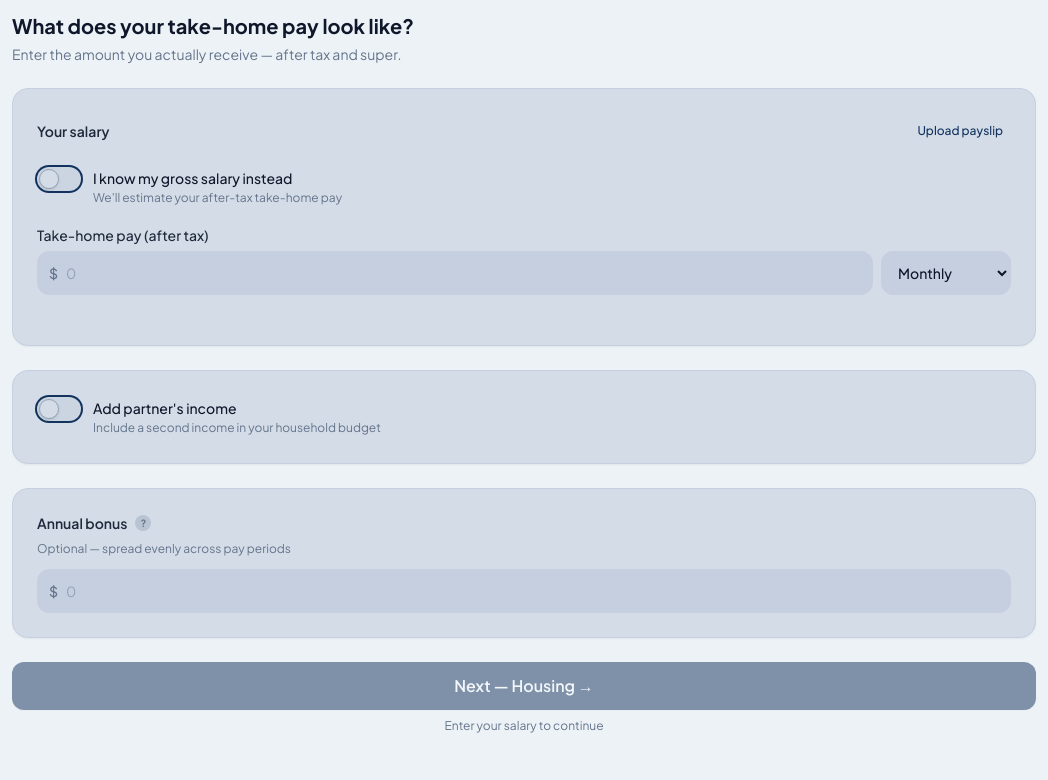
StepIncome — Next button › Next button is enabled once a salary amount is entered
This screenshot has width=1048, height=780.
Note: The first textbox is the primary salary amount
Type "5000" into the field labelled "Take-home pay (after tax)" at (455, 273), box [37,251,873,295]
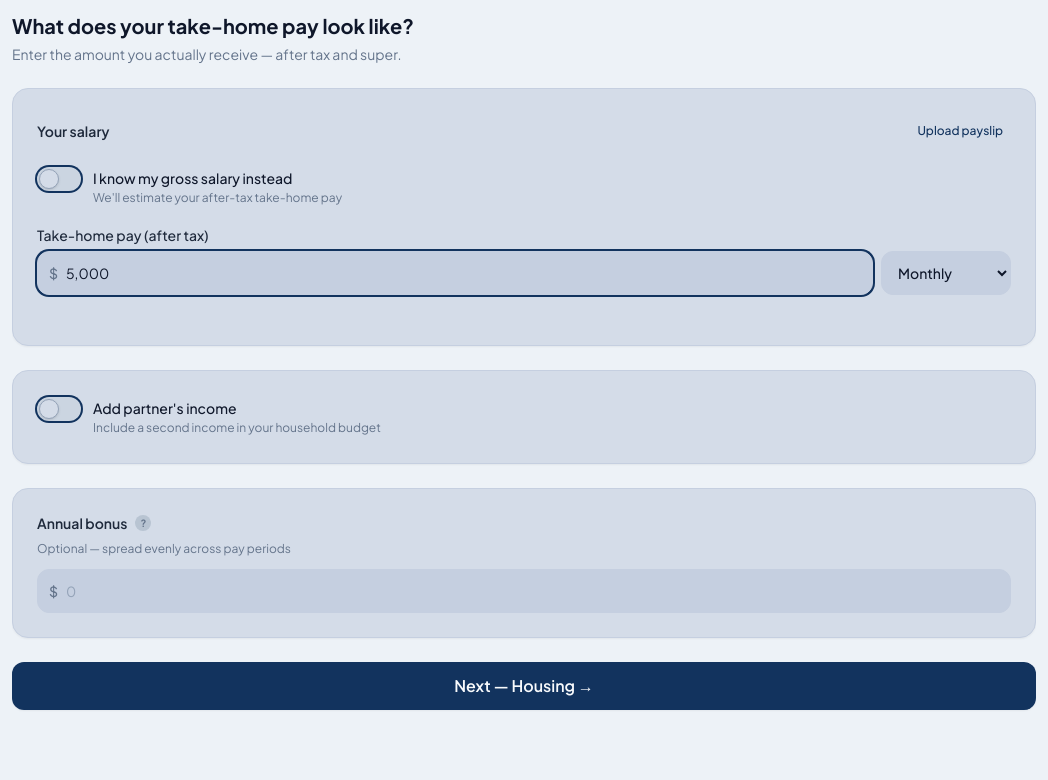
Now the button "Next — Housing →" is enabled, box [12,662,1036,710]
